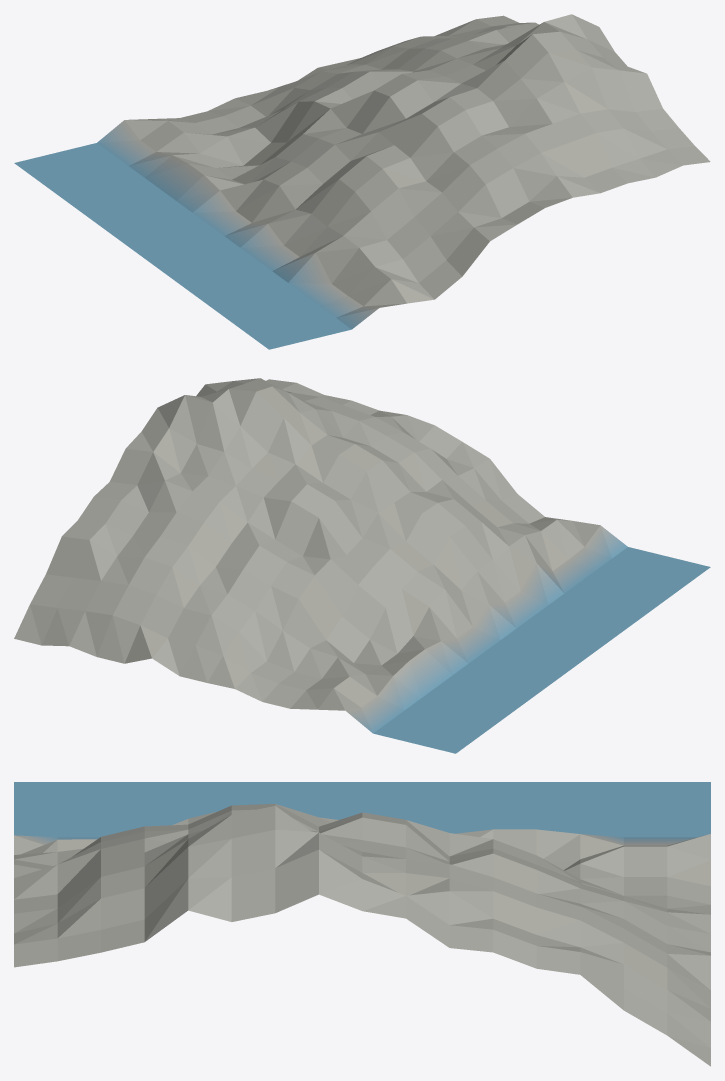
3 renders of one model, top to bottom at view 1: azimuth 30°, elevation 25°; view 2: azimuth 150°, elevation 25°; view 3: azimuth 270°, elevation 25°, orthographic. The views are drawn at different scales.
Bounding box in the file's own units: 32 × 10.93 × 32.
